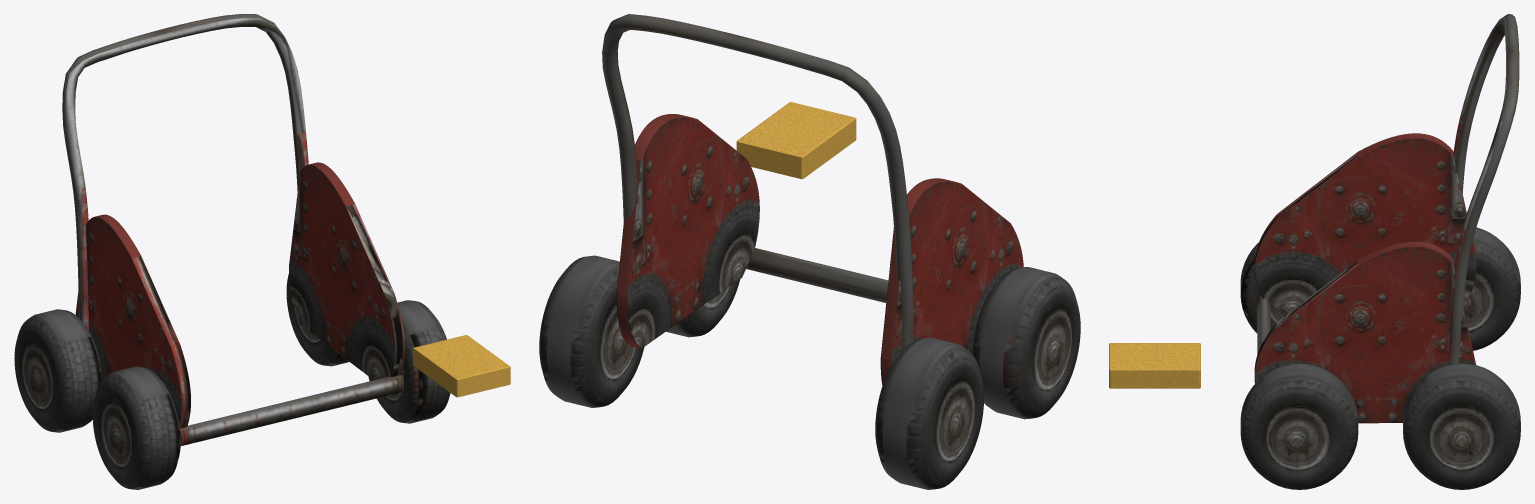
File: cart-empty.glb
3 views of the same model, side by side, from view 1: azimuth 30°, elevation 25°; view 2: azimuth 150°, elevation 25°; view 3: azimuth 270°, elevation 25° (orthographic). The views are drawn at different scales.
Parts seen in each view (by area): view 1: side-cheek (×2), tire (×4), bent-push-handle, front-tie-bar, brake, hub (×2); view 2: side-cheek (×2), tire (×4), bent-push-handle, hub (×3), brake, front-tie-bar; view 3: side-cheek (×2), tire (×4), hub (×3), bent-push-handle, brake, front-tie-bar.
Boxes of the visible parts, x1,y1,x2,y2 form: side-cheek (×2): (75,162,404,428); tire (×4): (14,274,450,489); bent-push-handle: (62,14,308,330); front-tie-bar: (180,375,403,445); brake: (413,335,510,397); hub (×2): (22,344,131,465); side-cheek (×2): (616,114,1023,385); tire (×4): (539,255,1080,489); bent-push-handle: (602,14,913,350); hub (×3): (600,304,1071,460); brake: (736,102,856,179); front-tie-bar: (746,248,888,302); side-cheek (×2): (1254,133,1476,423); tire (×4): (1240,227,1520,489); hub (×3): (1267,272,1494,468); bent-push-handle: (1448,14,1519,364); brake: (1109,343,1200,388); front-tie-bar: (1257,296,1270,354).
Bounding box in the file's own units: 0.7874 × 0.8324 × 0.8609.
4 materials, 4 textured.
